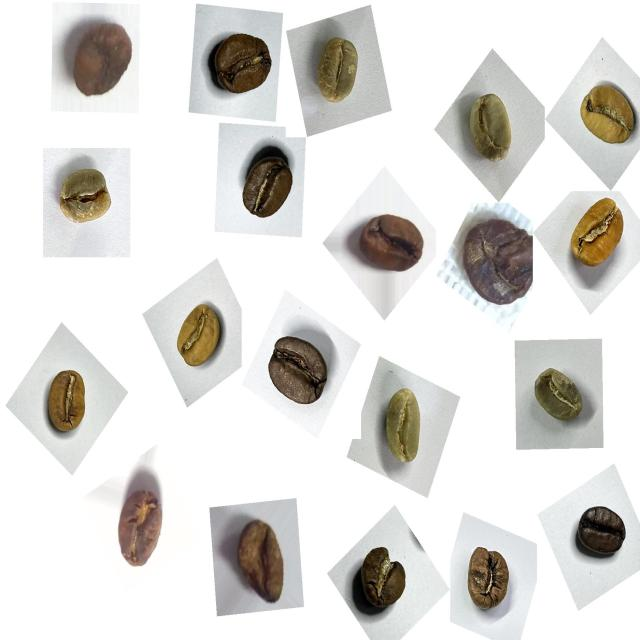bad: (451, 205, 541, 318), (57, 7, 138, 113), (223, 504, 299, 614), (347, 196, 428, 282), (108, 477, 174, 579)
dark: (565, 494, 632, 574)
green: (372, 374, 438, 477), (452, 85, 526, 176), (49, 156, 122, 240), (522, 356, 592, 434)
light: (558, 190, 634, 280), (164, 293, 237, 382), (570, 72, 640, 162), (35, 357, 101, 448), (307, 25, 372, 117)
medium: (254, 327, 340, 421), (204, 23, 283, 111), (230, 144, 304, 232), (460, 533, 525, 618), (350, 538, 418, 618)
